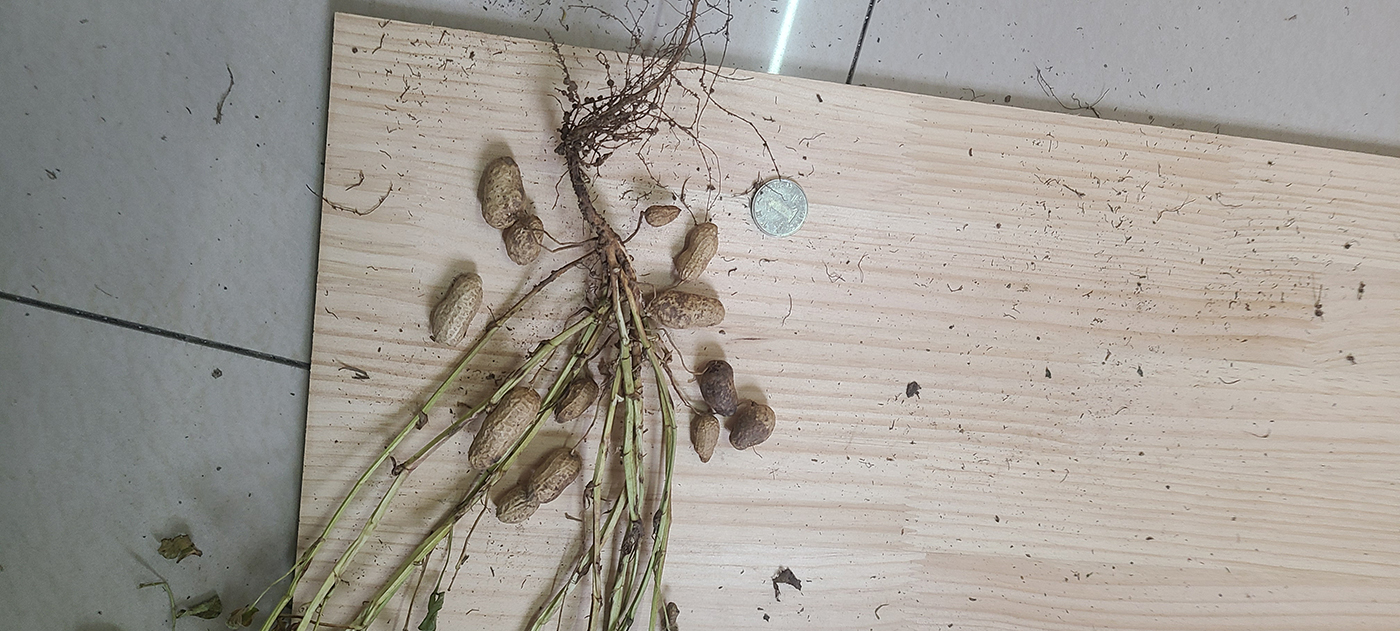h: (495, 448, 582, 523), (469, 386, 541, 468), (430, 275, 483, 347), (480, 156, 524, 230), (645, 291, 726, 329), (673, 222, 723, 280), (550, 379, 598, 423), (505, 215, 544, 265), (690, 412, 721, 463)
l: (729, 402, 778, 452), (699, 362, 740, 415)
